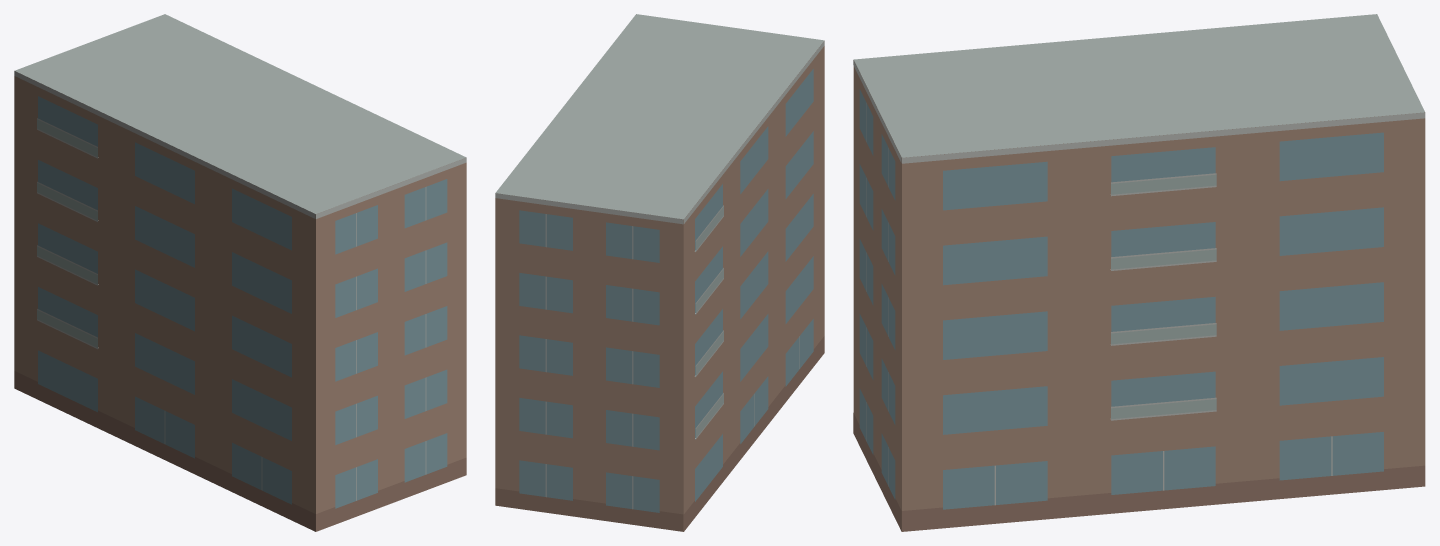
The model's file is survey-upis-32718417.glb.
3 views of the same model, side by side, from view 1: azimuth 30°, elevation 25°; view 2: azimuth 150°, elevation 25°; view 3: azimuth 270°, elevation 25° (orthographic). The views are drawn at different scales.
Visible parts, largest first — view 1: survey-upis-32718417.tmp; view 2: survey-upis-32718417.tmp; view 3: survey-upis-32718417.tmp.
Boxes of the visible parts, x1,y1,x2,y2 form: survey-upis-32718417.tmp: (14,14,466,531); survey-upis-32718417.tmp: (495,14,824,531); survey-upis-32718417.tmp: (853,14,1425,531).
Size of the model in its own units: 12.58 by 15.25 by 21.13.
